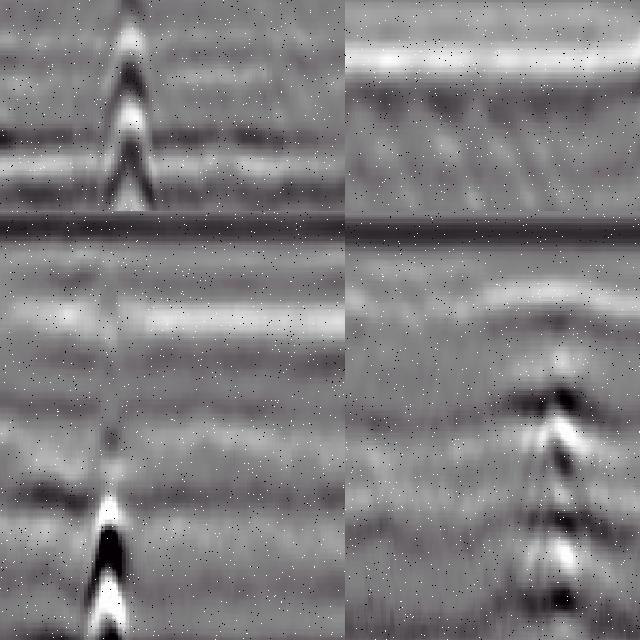crack: (89, 1, 158, 212), (84, 326, 128, 640)
loose: (352, 37, 640, 212), (499, 286, 620, 640)
